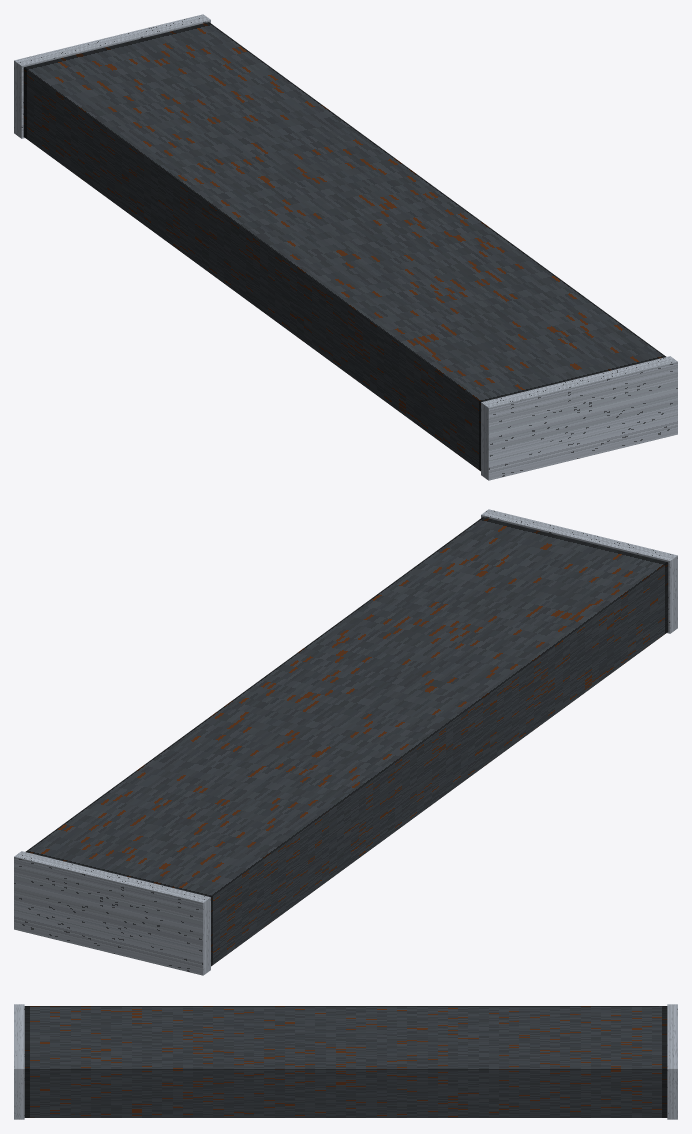
The model's file is light_fixture_medbay_clean.glb.
3 renders of one model, top to bottom at view 1: azimuth 30°, elevation 25°; view 2: azimuth 150°, elevation 25°; view 3: azimuth 270°, elevation 25°, orthographic. The views are drawn at different scales.
Visible parts, largest first — view 1: light_fixture_medbay_clean; view 2: light_fixture_medbay_clean; view 3: light_fixture_medbay_clean.
Part boxes in pixels (x1,y1,x2,y2): light_fixture_medbay_clean: (14,14,677,480); light_fixture_medbay_clean: (14,509,677,975); light_fixture_medbay_clean: (14,1004,677,1119).
Bounding box in the file's own units: 0.2856 × 0.105 × 1.24.
4 materials, 4 textured.
